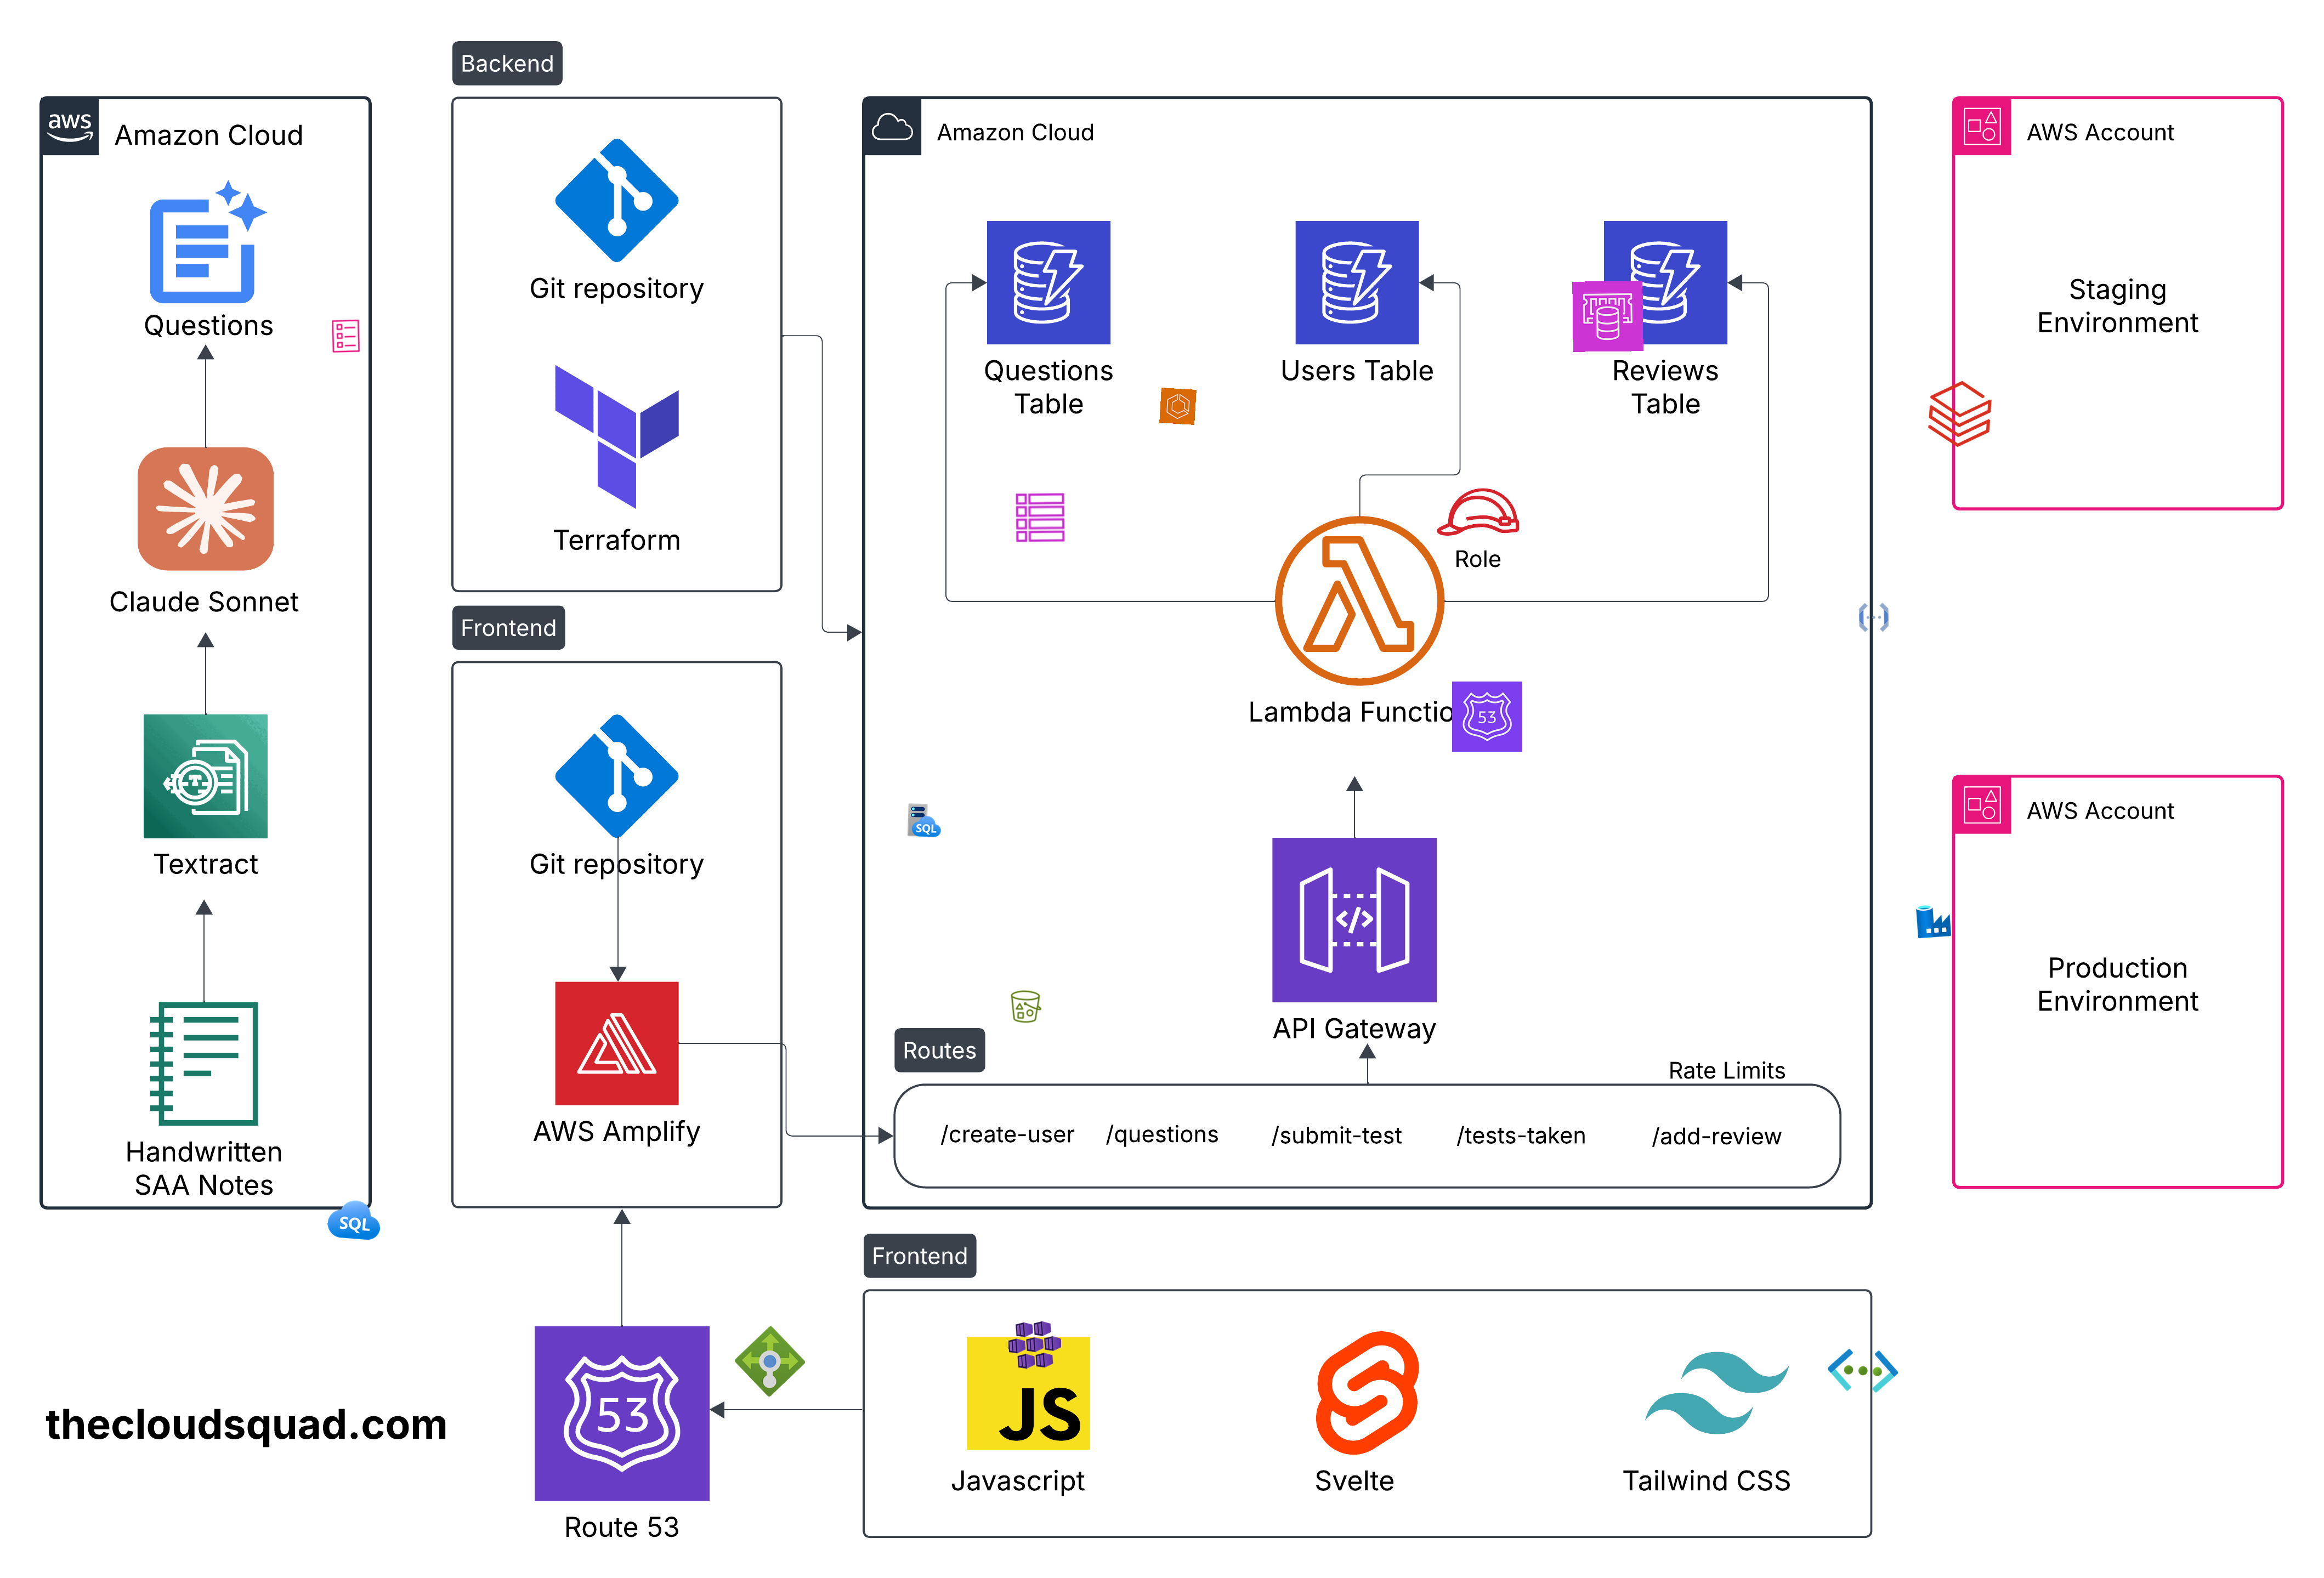aws_amazon_elastic_container_service: (1158, 387, 1197, 424)
aws_amazon_elasticache: (1572, 280, 1643, 352)
aws_amazon_route_53: (1451, 682, 1523, 752)
aws_cloudformation_template: (327, 319, 364, 354)
aws_dynamodb_table: (1014, 491, 1067, 544)
aws_simple_storage_service_bucket_with_objects: (1007, 988, 1044, 1025)
azure_data_factories: (1914, 902, 1953, 940)
azure_databricks: (1923, 377, 1998, 453)
azure_kubernetes_services: (1007, 1316, 1063, 1374)
azure_load_balancers: (734, 1324, 806, 1398)
azure_sql: (326, 1192, 382, 1249)
azure_sql_managed_instance: (907, 801, 942, 838)
azure_virtual_networks: (1826, 1333, 1900, 1407)
gcp_cloud_functions: (1856, 599, 1893, 636)
